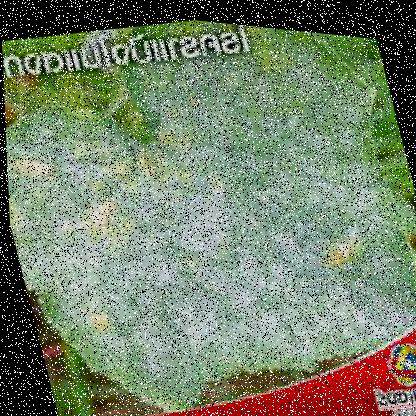PowderyMildew: (94, 114, 384, 363), (152, 60, 353, 246), (35, 143, 220, 342)
